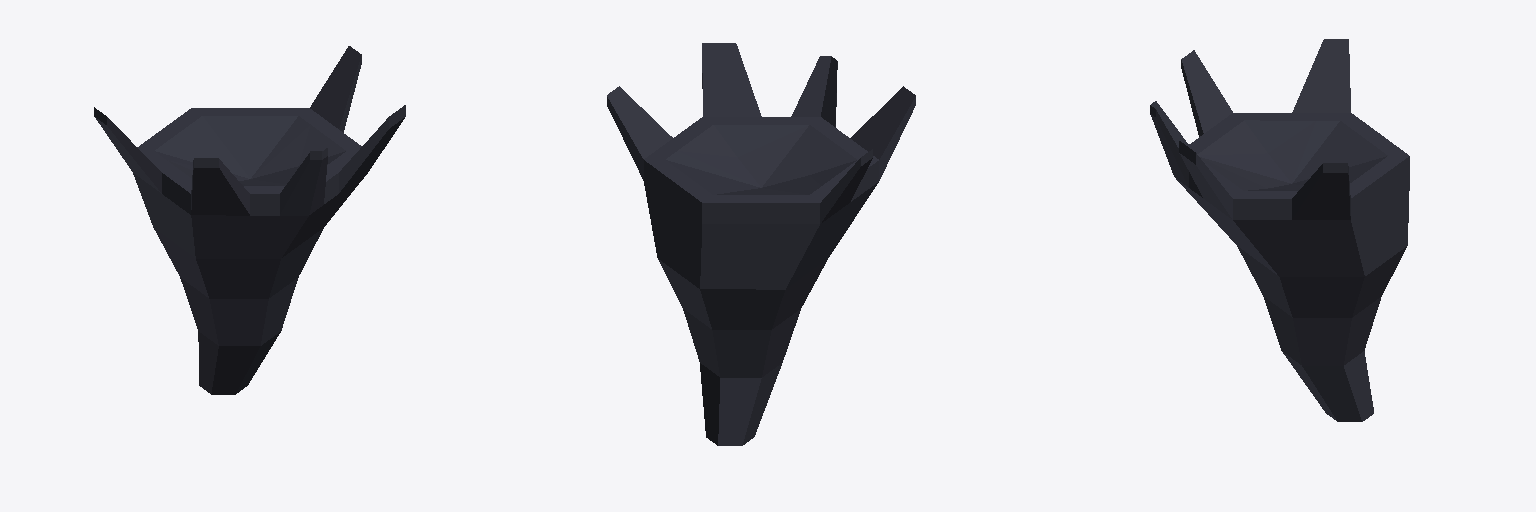
File: PillarTorch.obj
3 renders of one model, left to right at view 1: azimuth 30°, elevation 25°; view 2: azimuth 150°, elevation 25°; view 3: azimuth 270°, elevation 25°, orthographic.
Parts seen in each view (by area): view 1: PillarTorch; view 2: PillarTorch; view 3: PillarTorch.
Boxes of the visible parts, <box> form: PillarTorch: <box>94,46,405,394</box>; PillarTorch: <box>607,43,915,445</box>; PillarTorch: <box>1150,39,1409,421</box>.
Bounding box in the file's own units: 9.35 × 10.96 × 8.27.